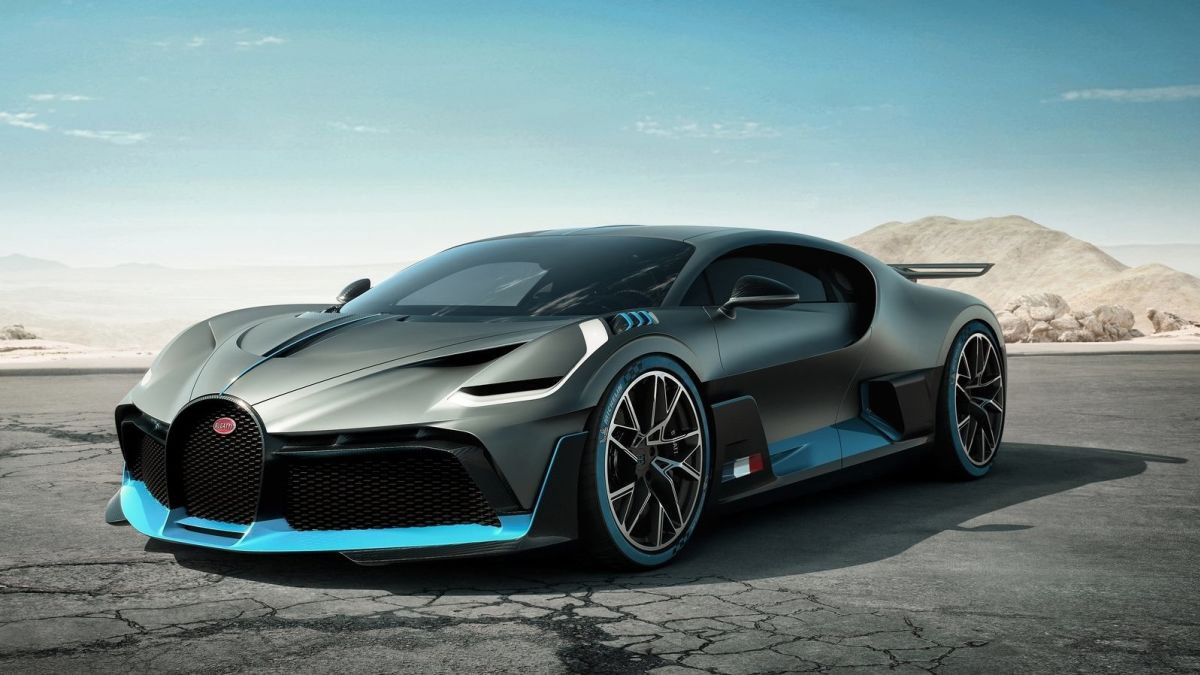car: (110, 216, 1017, 572)
